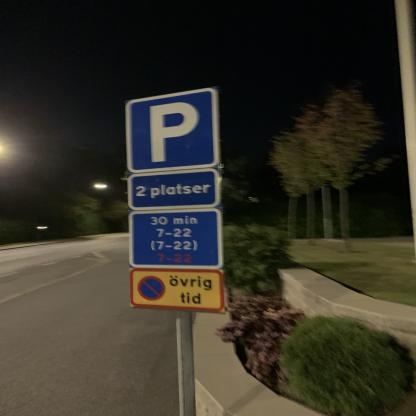P-skylt: (123, 86, 219, 174)
